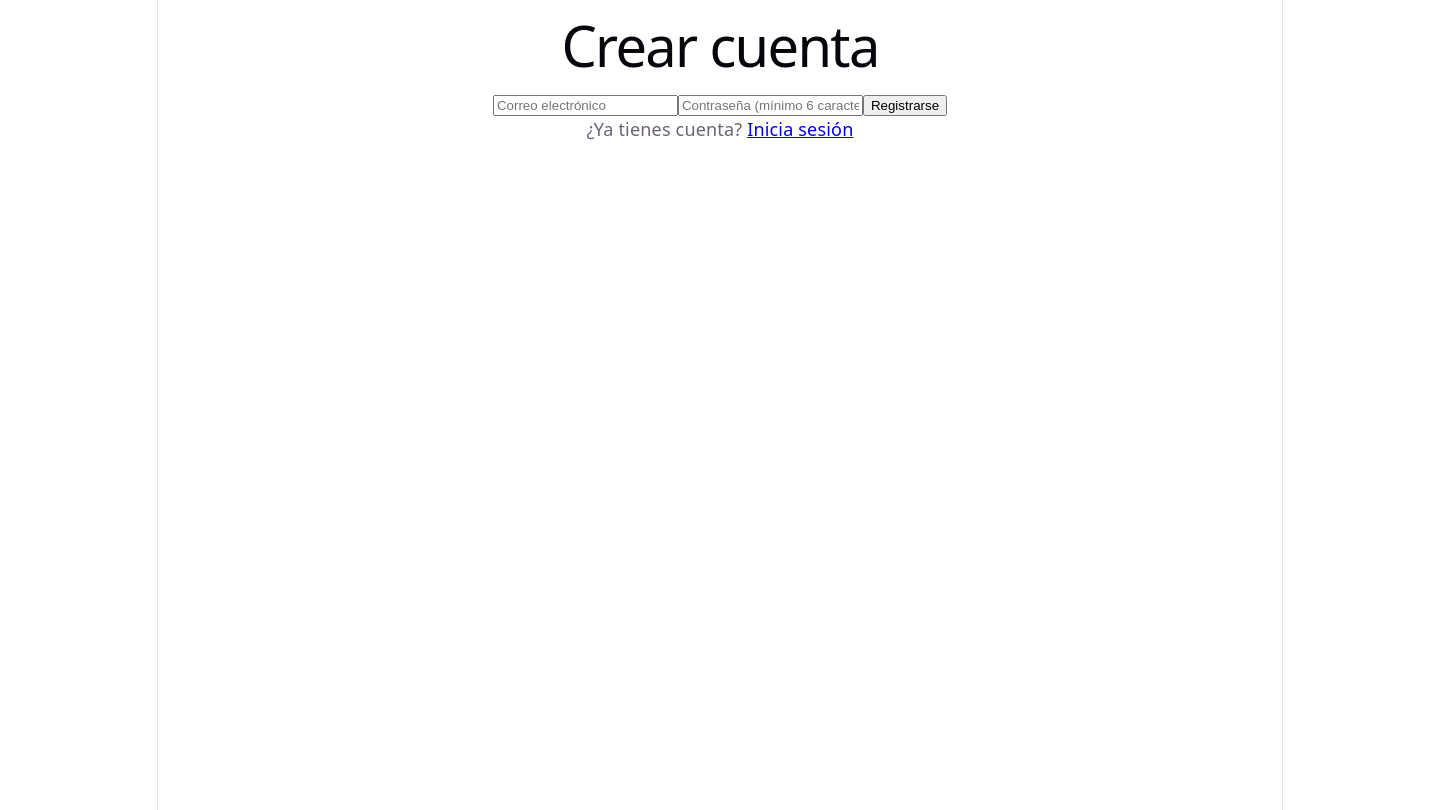
Test case: Register › muestra un mensaje de error comprensible cuando el email ya está en uso
The width and height of the screenshot is (1440, 810).
Type "existente@test.com" into the field with placeholder "Correo electrónico" at (585, 106), box x1=493 y1=95 x2=678 y2=116
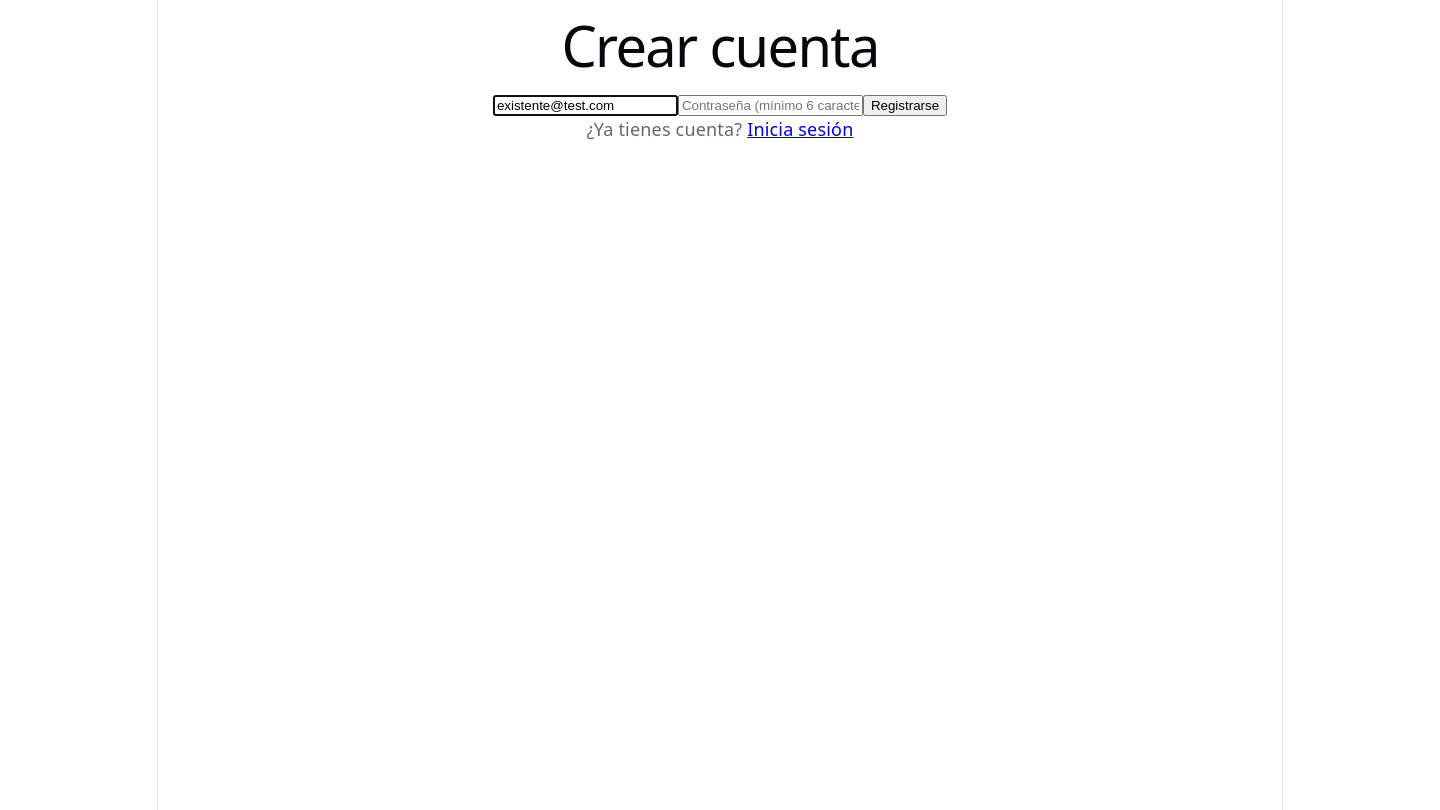
Type "123456" into the password field with placeholder "Contraseña (mínimo 6 caracteres)" at (770, 106), box x1=678 y1=95 x2=863 y2=116
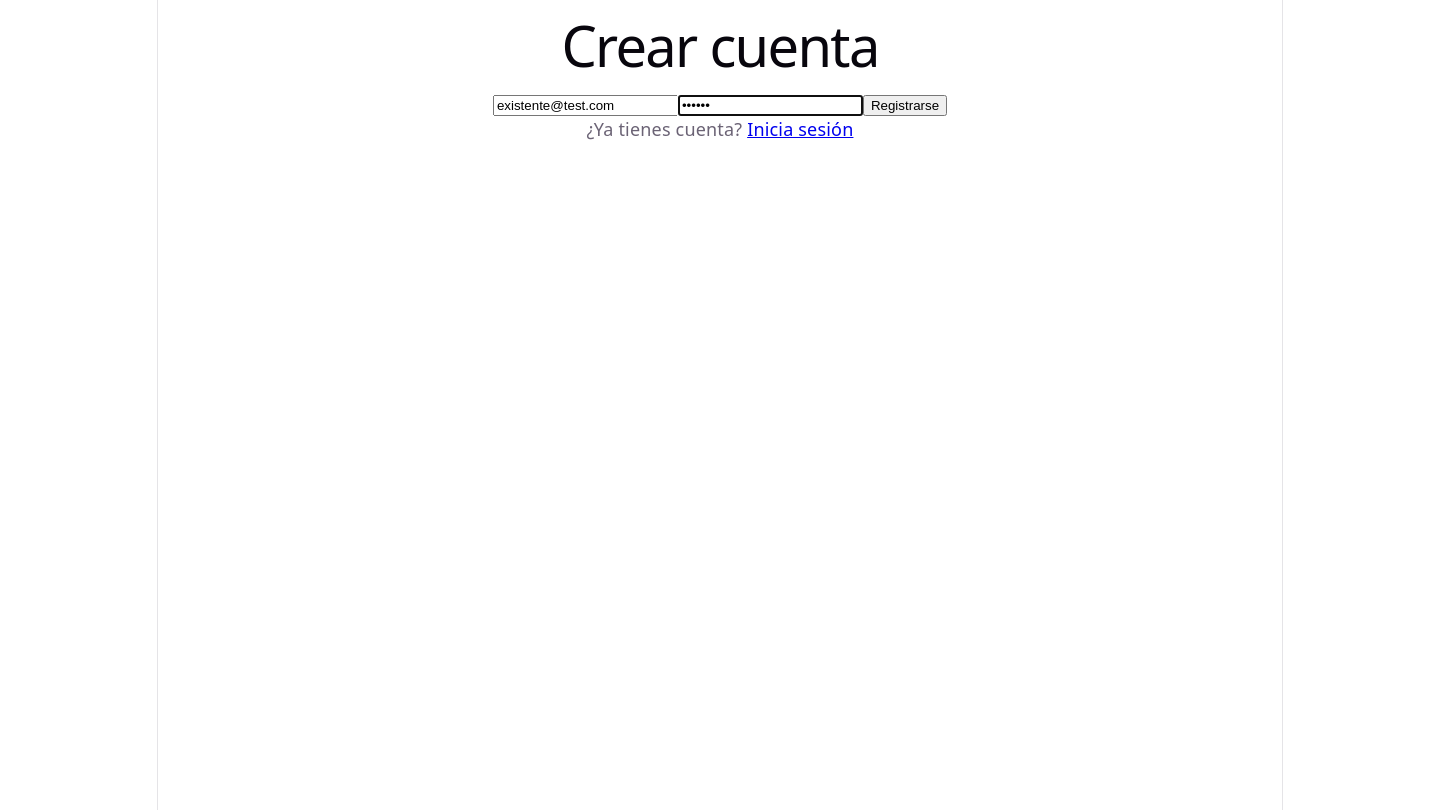
Click the button "Registrarse" at (905, 106), box x1=863 y1=95 x2=947 y2=116
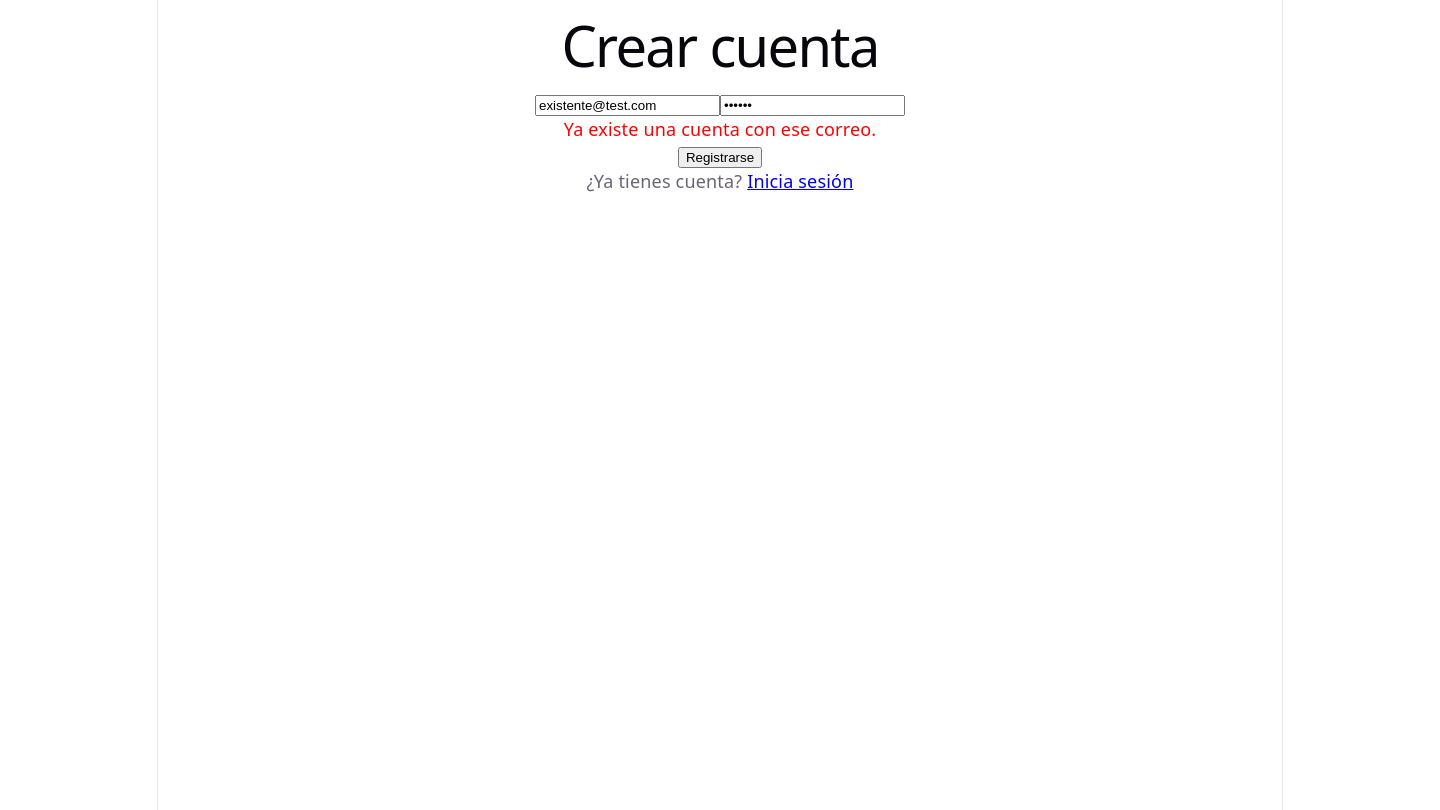
Result: the text "Ya existe una cuenta con ese correo." is shown at x1=564 y1=117 x2=876 y2=141
